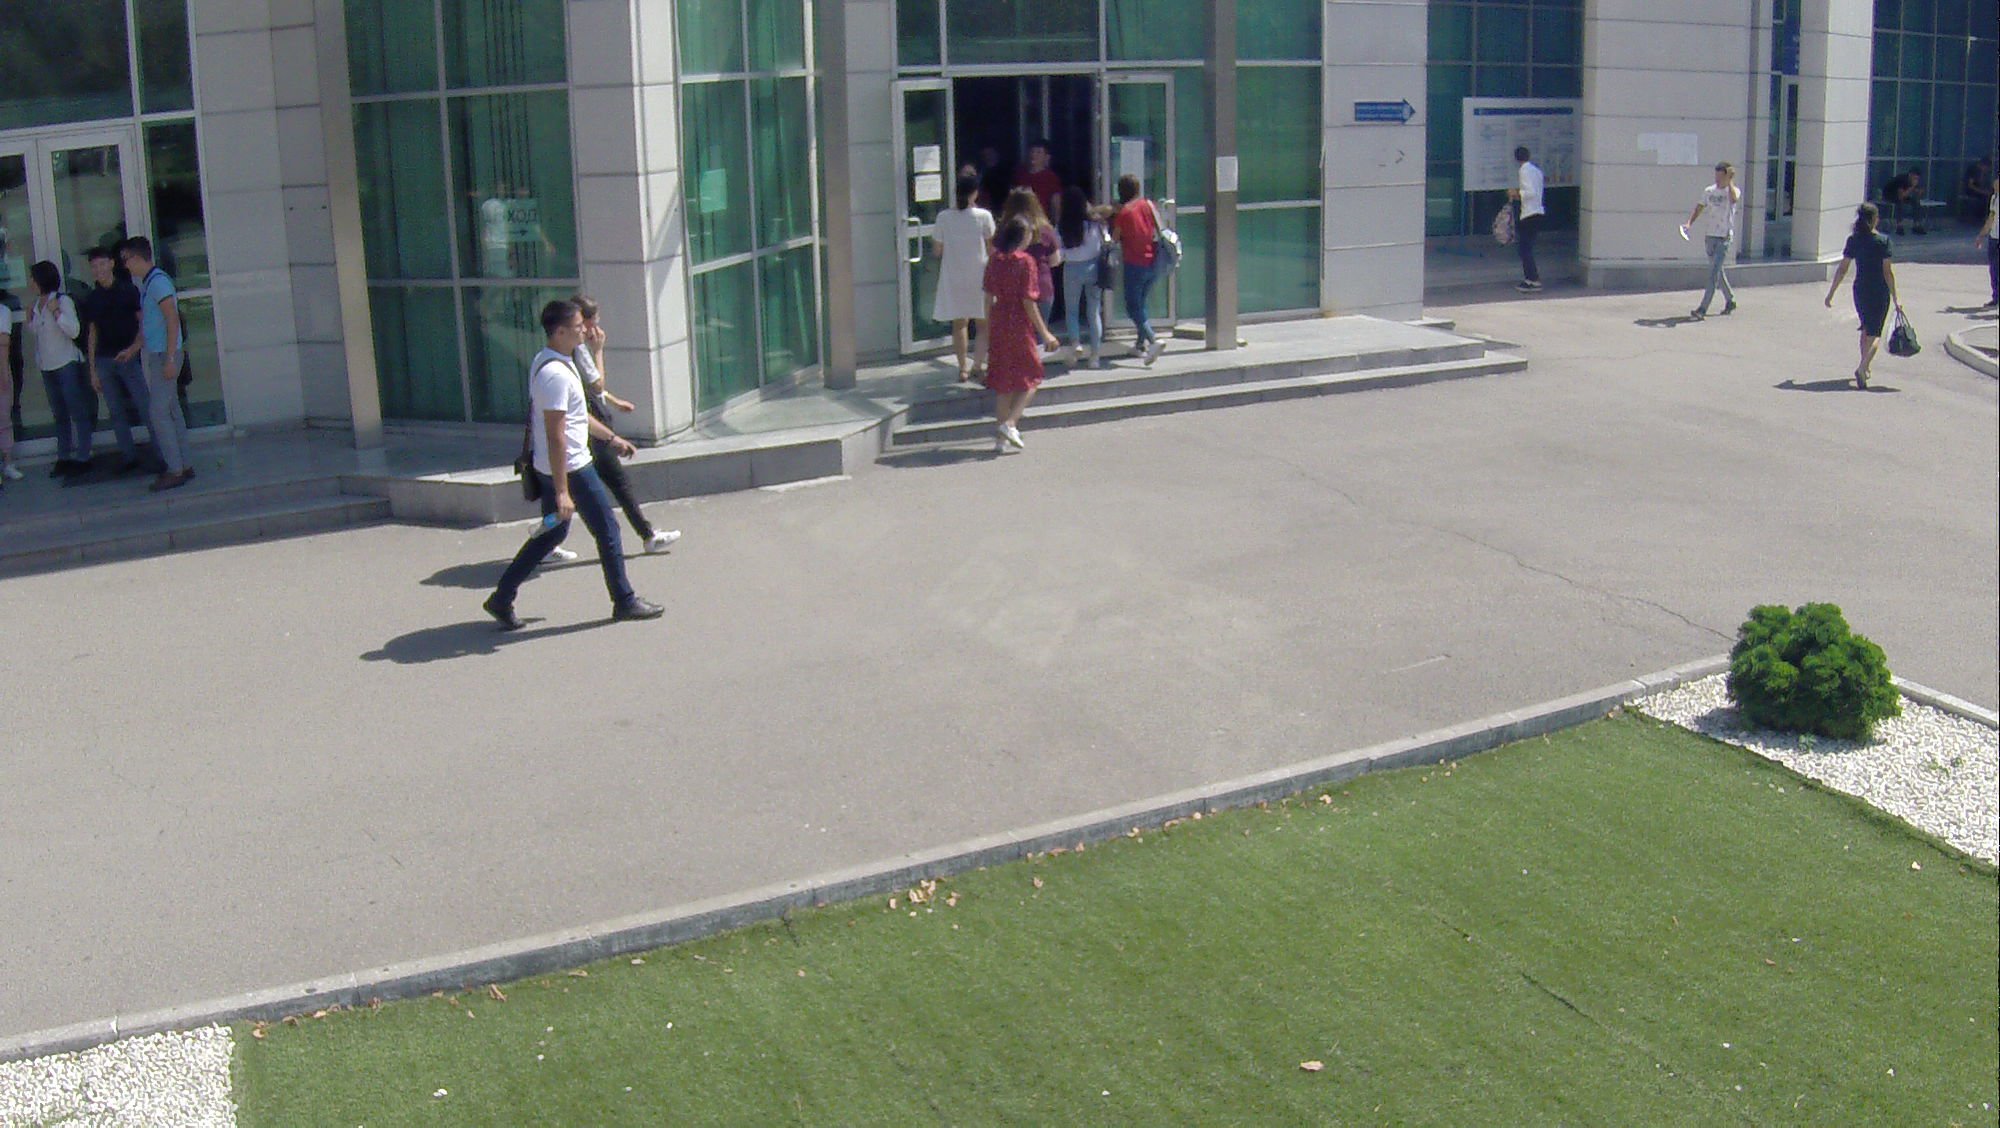person: (489, 294, 669, 635), (572, 276, 693, 566), (1825, 190, 1928, 397), (80, 247, 169, 481), (122, 235, 203, 492), (980, 218, 1055, 464), (24, 258, 99, 486), (1108, 172, 1190, 383), (928, 168, 990, 389), (1673, 156, 1747, 335), (1054, 181, 1112, 374), (1493, 140, 1555, 299), (1014, 142, 1058, 205)
